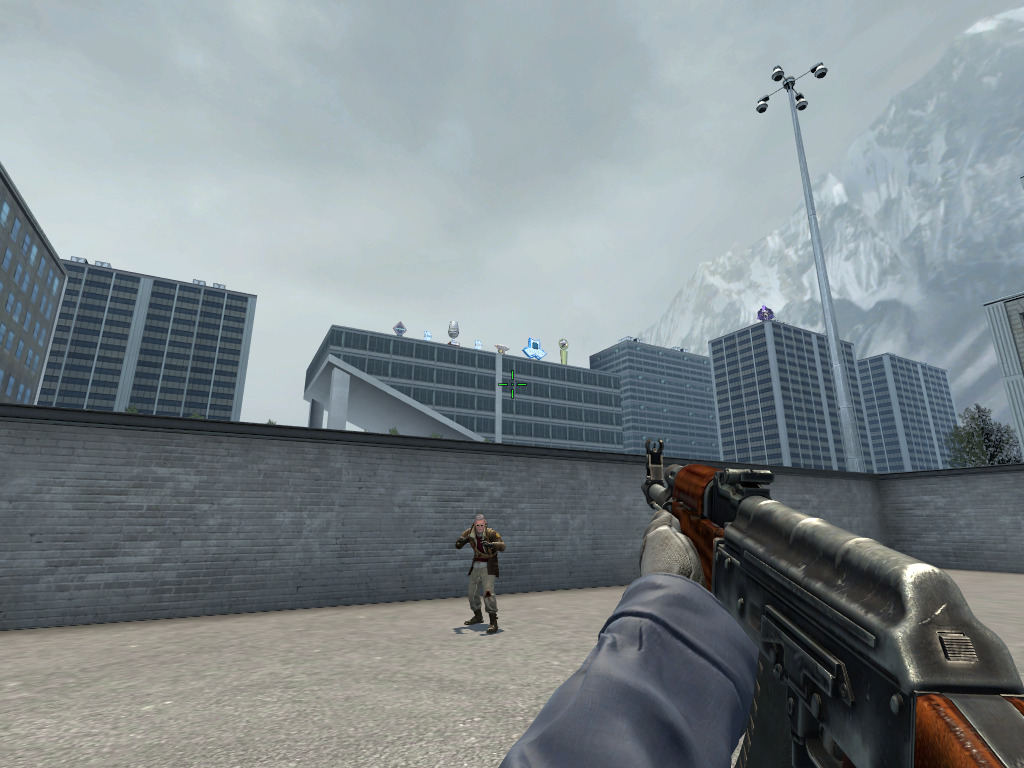tr head: (472, 513, 488, 534)
